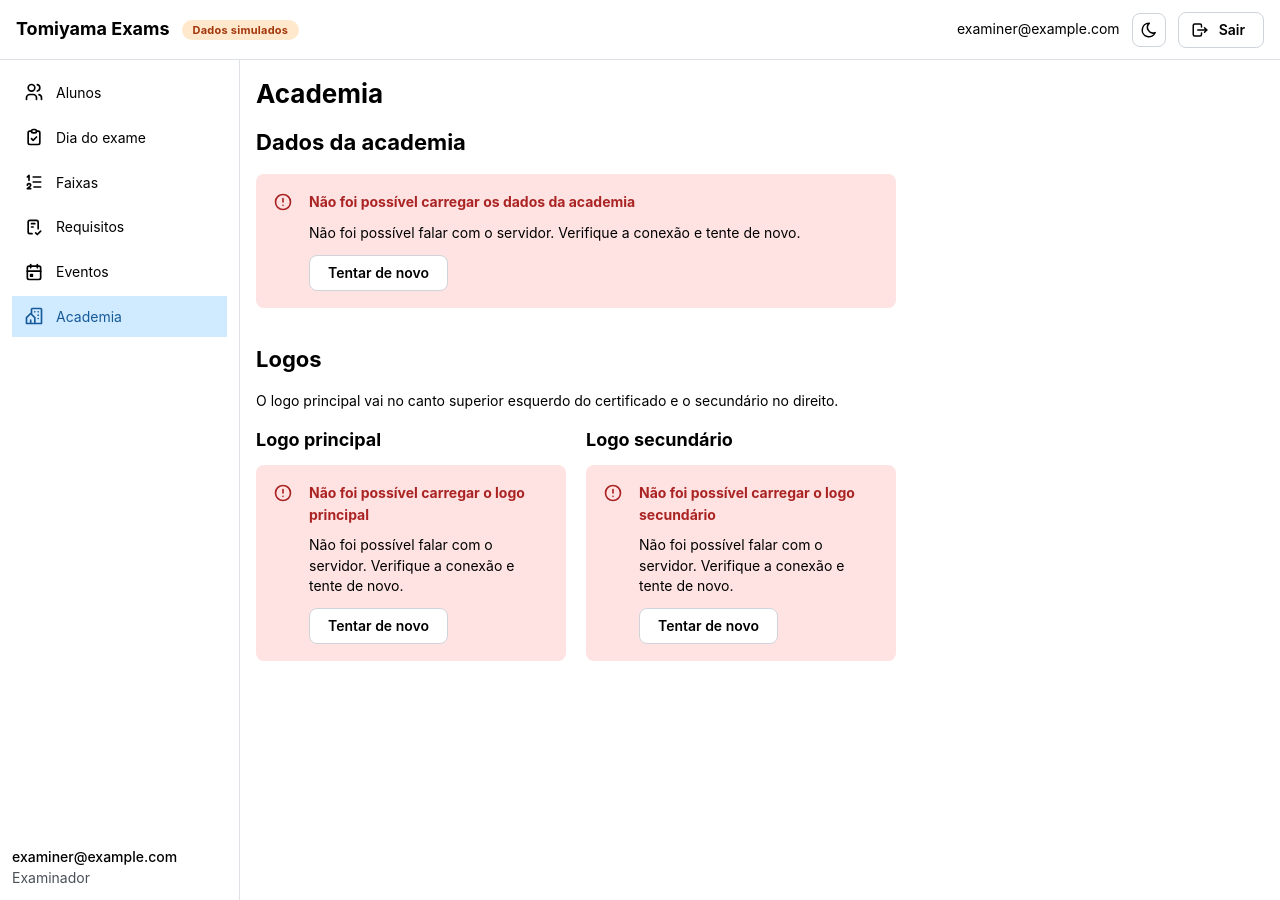
Scenario: #102 desconto do cabeçalho fixo no fim e no começo da sessão (§ 6.7) › "Sair" e entrar de novo com outro perfil: o desconto sai e volta
Expected: the heading "Academia" is shown, [256,78,383,109]
Click the button "Sair" at (1221, 30), box [1178,12,1264,48]
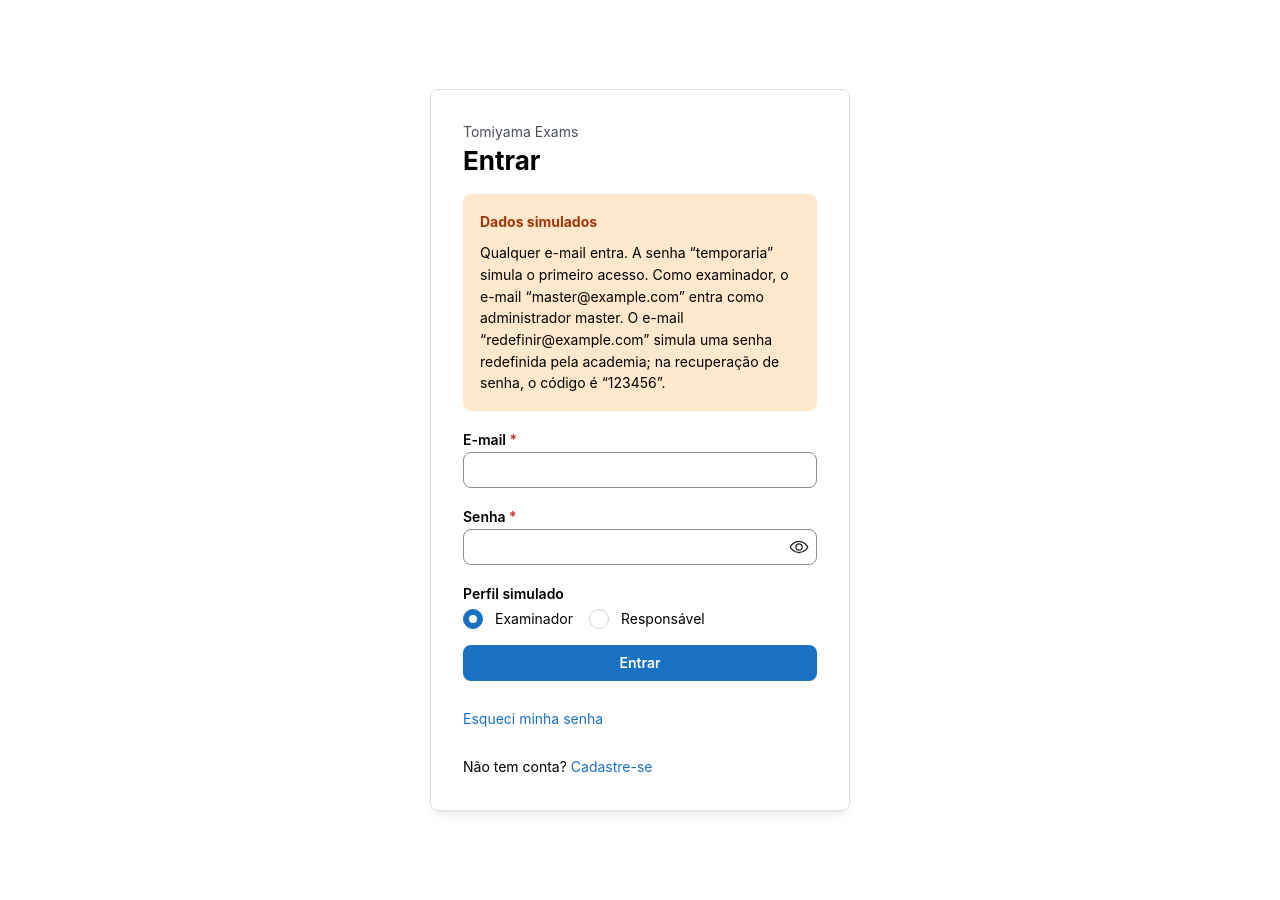
Result: the heading "Entrar" is shown at [463,144,540,176]
Type "mae@example.com" into the field labelled "E-mail *" at (640, 470), box [463,452,817,488]
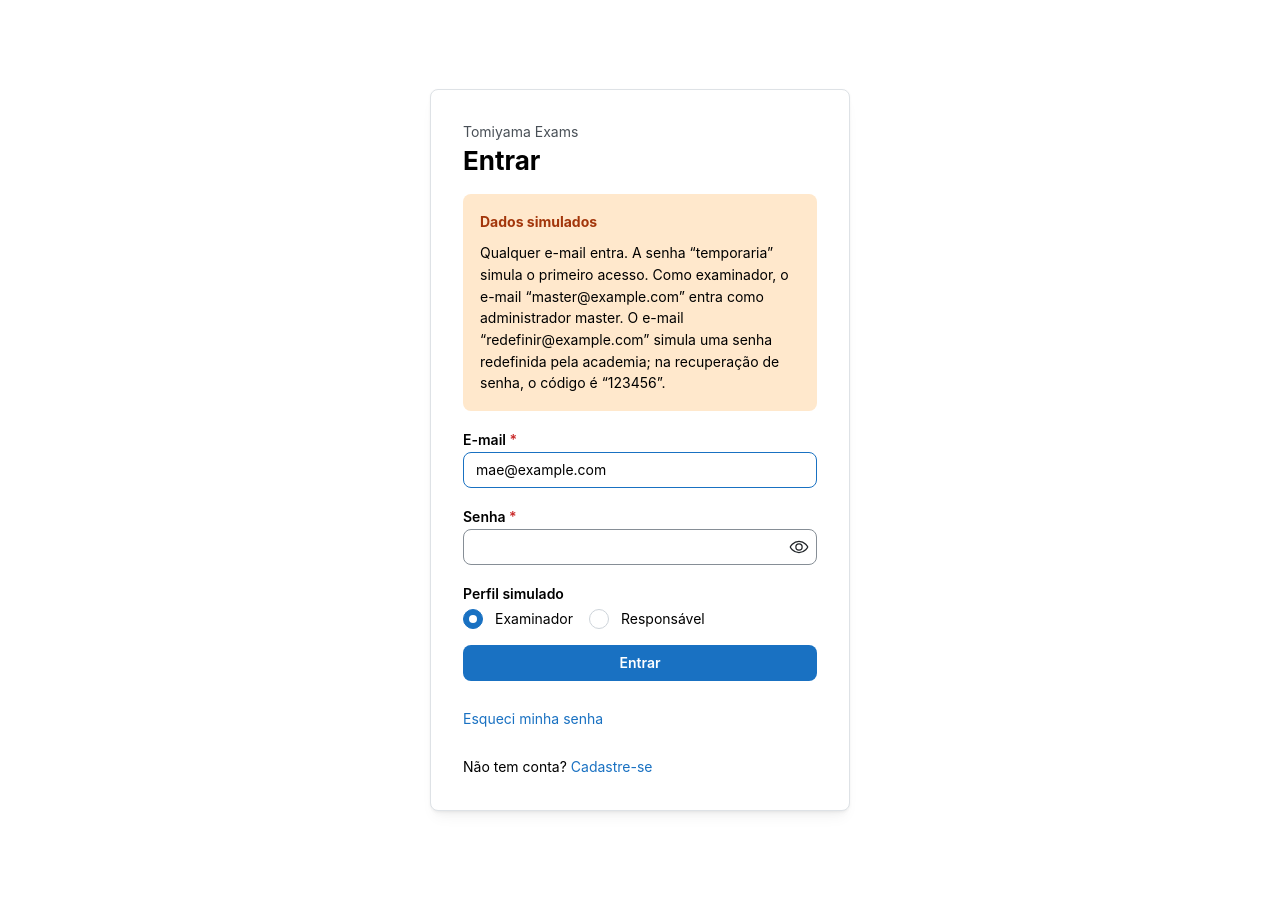
Type "qualquer" into the password field labelled "Senha *" at (640, 547), box [464,530,816,564]
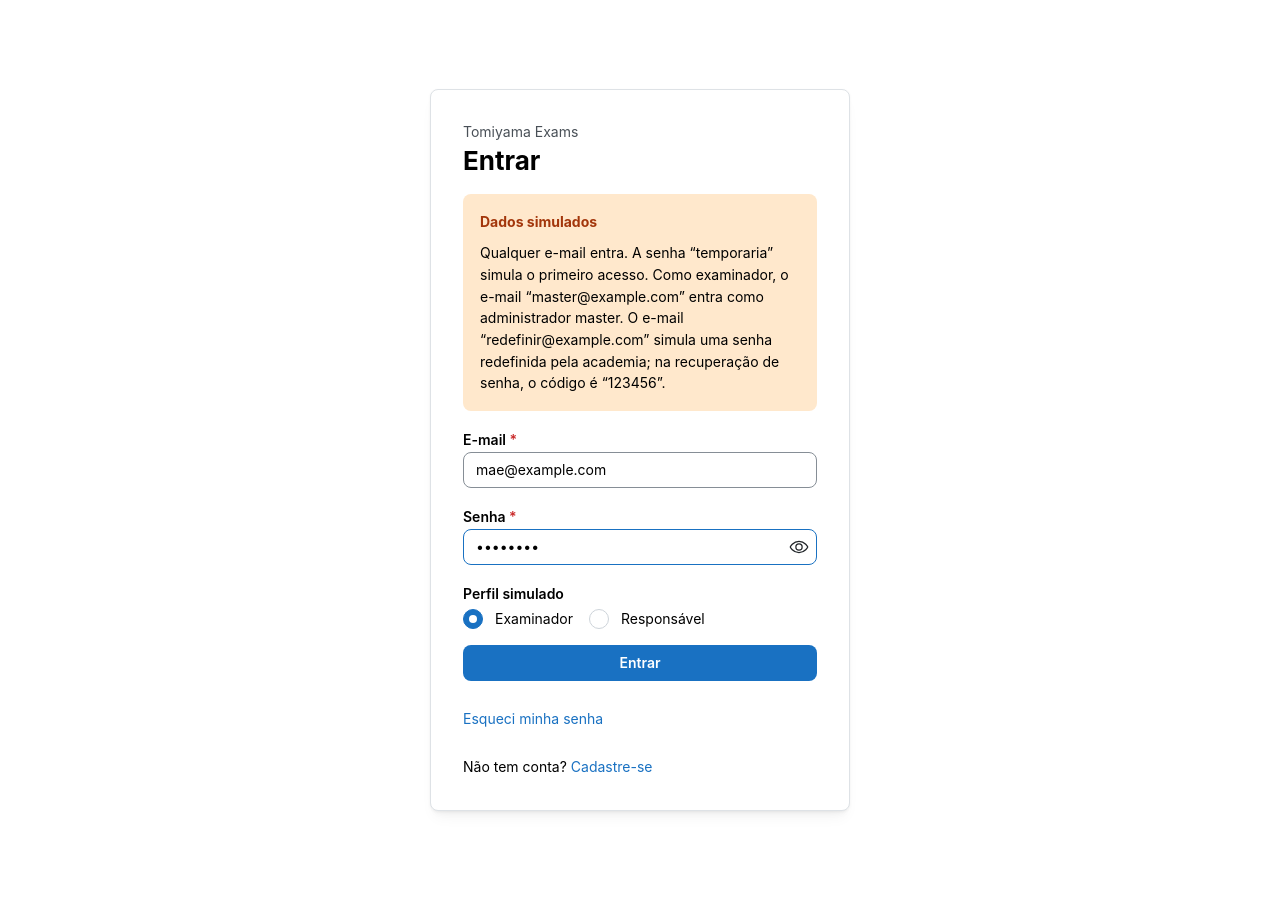
Click the radio button labelled "Responsável" at (599, 620), box [589,610,609,630]
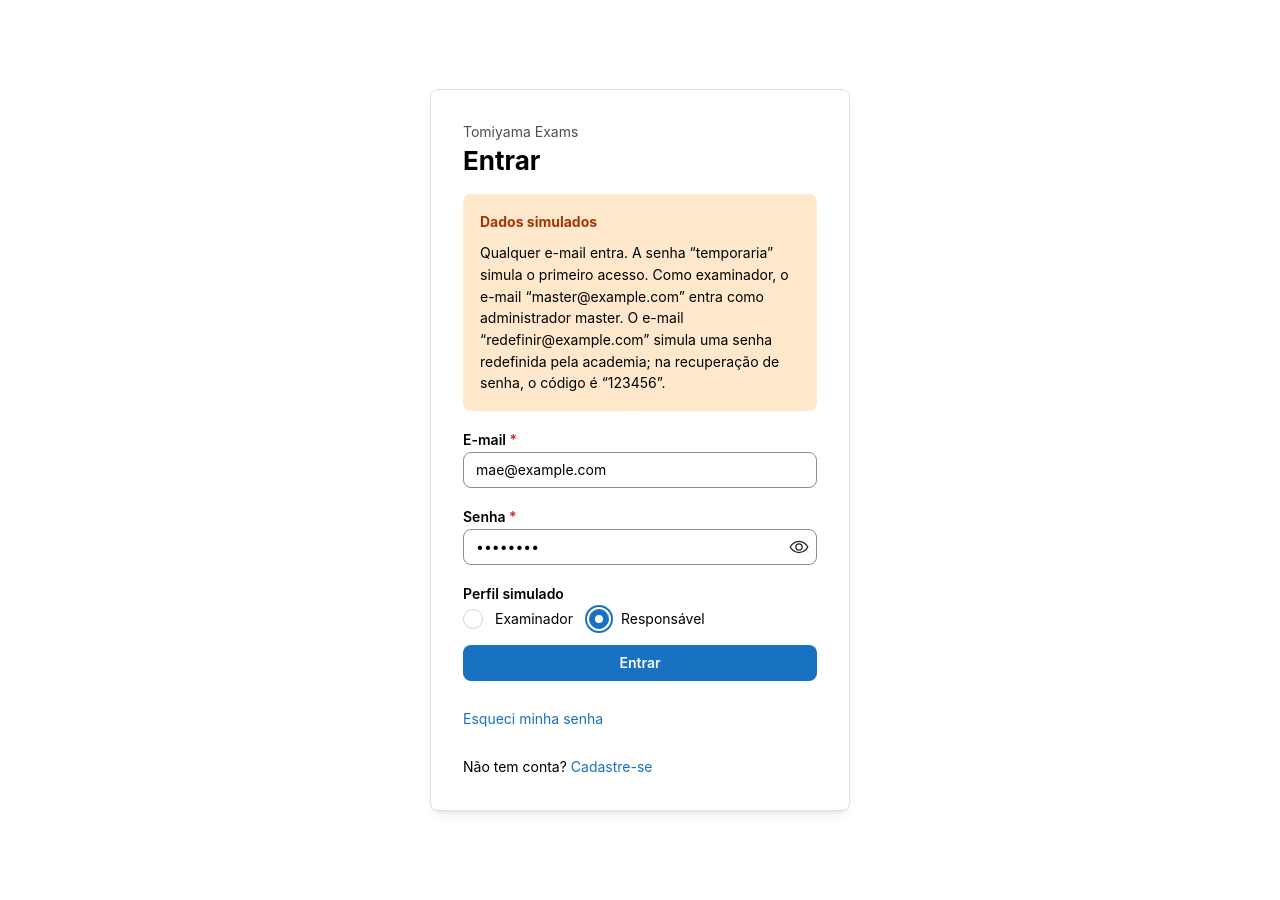
Click the button "Entrar" at (640, 664), box [463,646,817,682]
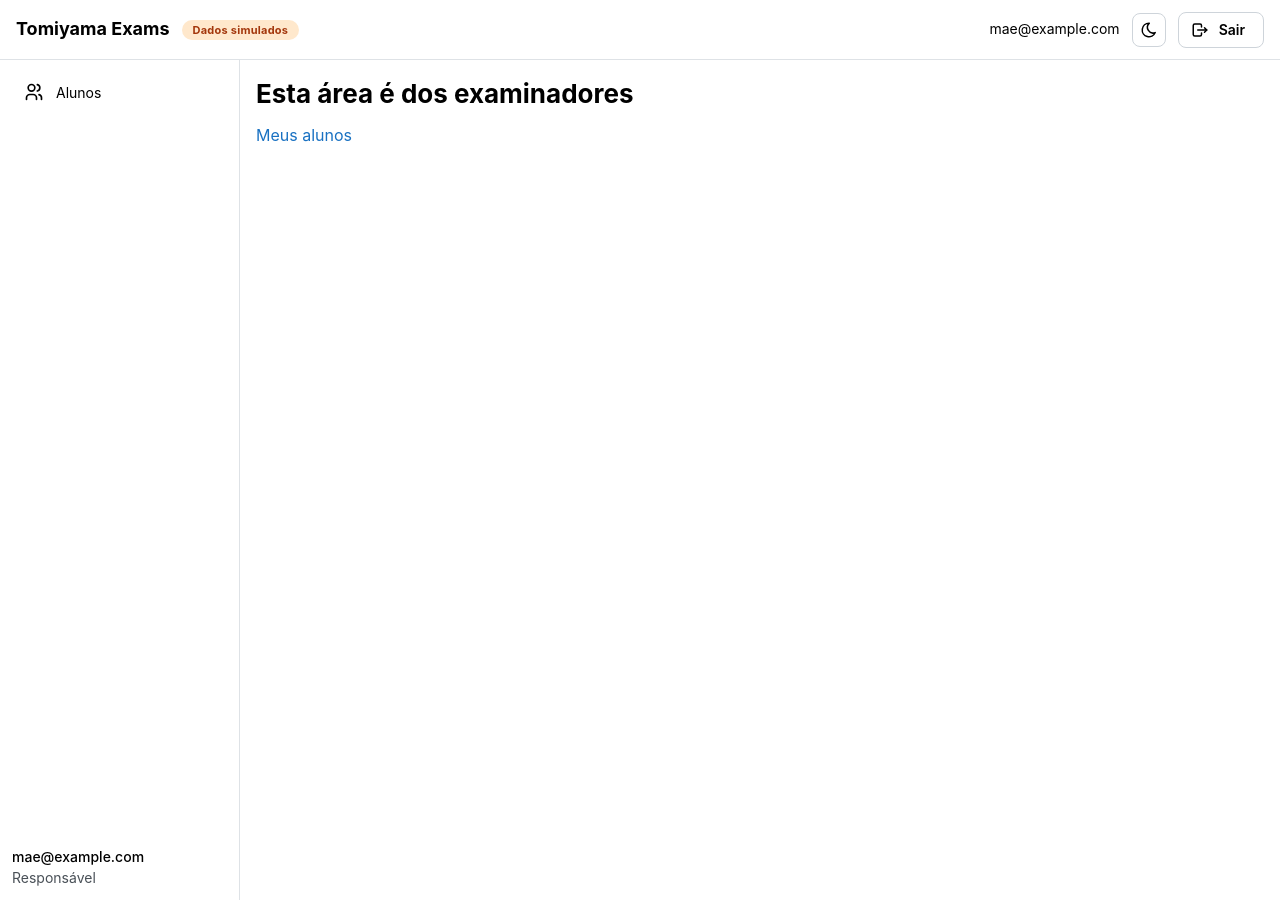
Result: the button "Sair" is shown at [1178,12,1264,48]
